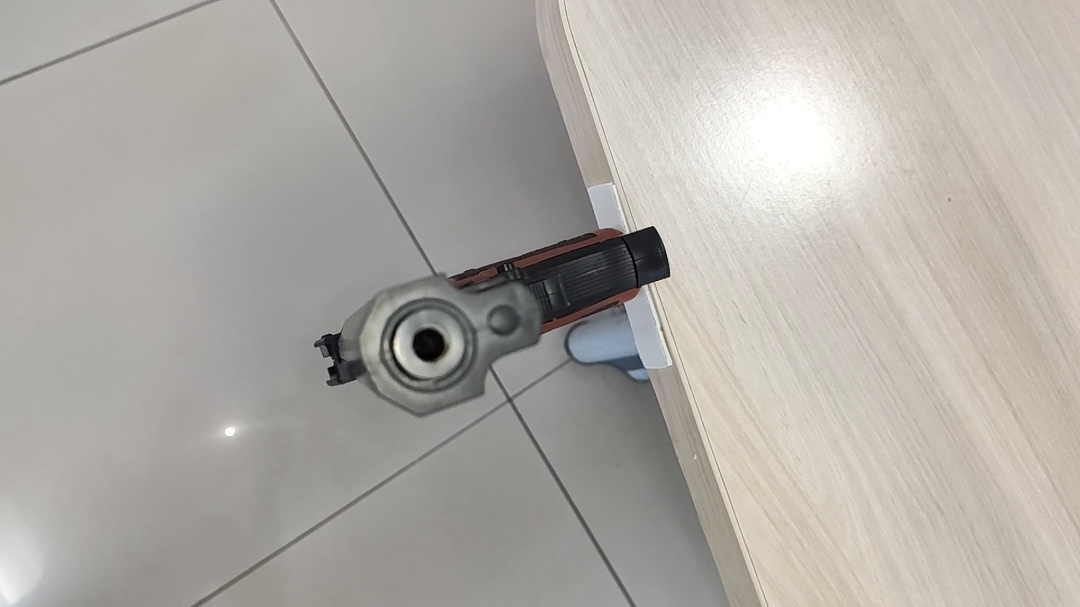gun: (599, 259, 647, 275)
